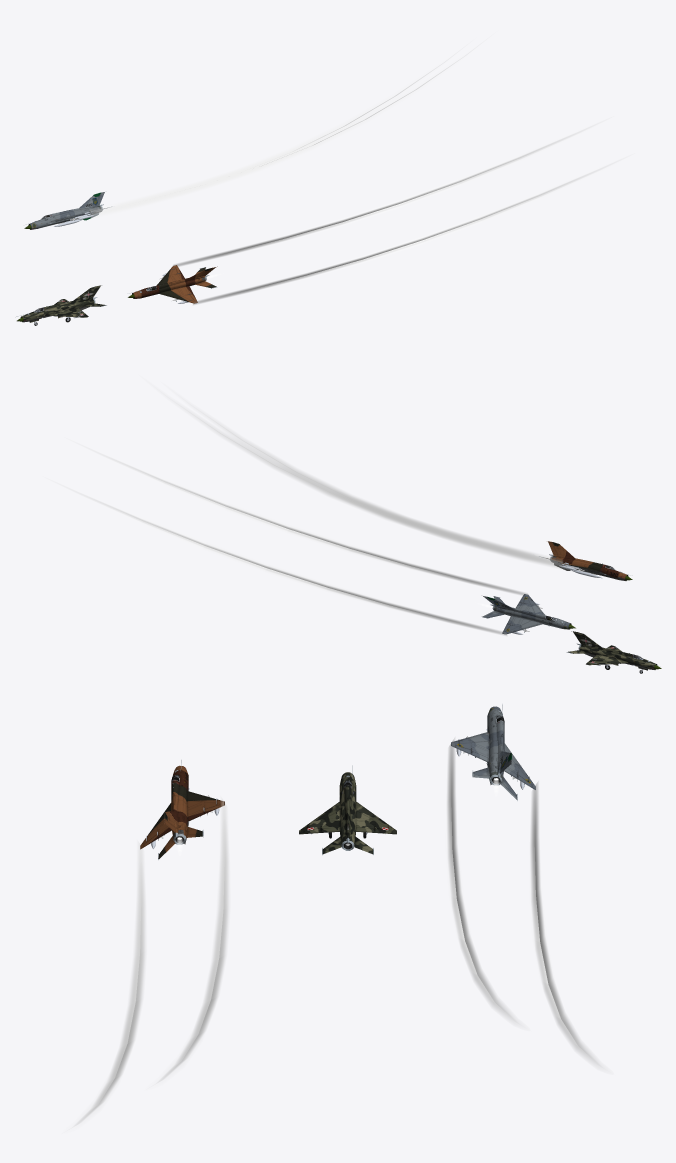
The model's file is mig-21_fishbed_-_cold_war_era_fighter_-_free.glb.
The picture shows the model from 3 angles, top to bottom: view 1: azimuth 30°, elevation 25°; view 2: azimuth 150°, elevation 25°; view 3: azimuth 270°, elevation 25°; orthographic projection. The views are drawn at different scales.
Visible parts, largest first — view 1: trails.002_22, trails.003_36, MIG-21.001_23, MIG-21_9, MIG-21.002_37; view 2: trails.003_36, trails.002_22, MIG-21.002_37, MIG-21_9, MIG-21.001_23; view 3: trails.003_36, trails.002_22, MIG-21_9, MIG-21.001_23, MIG-21.002_37.
Part boxes in pixels (left/top/right/bottom): trails.002_22: left=173, top=123, right=619, bottom=304; trails.003_36: left=90, top=49, right=473, bottom=217; MIG-21.001_23: left=128, top=265, right=217, bottom=303; MIG-21_9: left=17, top=285, right=106, bottom=322; MIG-21.002_37: left=24, top=192, right=112, bottom=229; trails.003_36: left=57, top=444, right=528, bottom=635; trails.002_22: left=157, top=389, right=578, bottom=570; MIG-21.002_37: left=481, top=594, right=575, bottom=634; MIG-21_9: left=566, top=631, right=661, bottom=669; MIG-21.001_23: left=539, top=541, right=632, bottom=580; trails.003_36: left=447, top=738, right=602, bottom=1067; trails.002_22: left=72, top=798, right=228, bottom=1127; MIG-21_9: left=299, top=772, right=396, bottom=854; MIG-21.001_23: left=140, top=765, right=224, bottom=859; MIG-21.002_37: left=451, top=706, right=535, bottom=800.
Size of the model in its own units: 96.38 by 23.8 by 43.15.
Materials: 26 (5 with a texture image).
